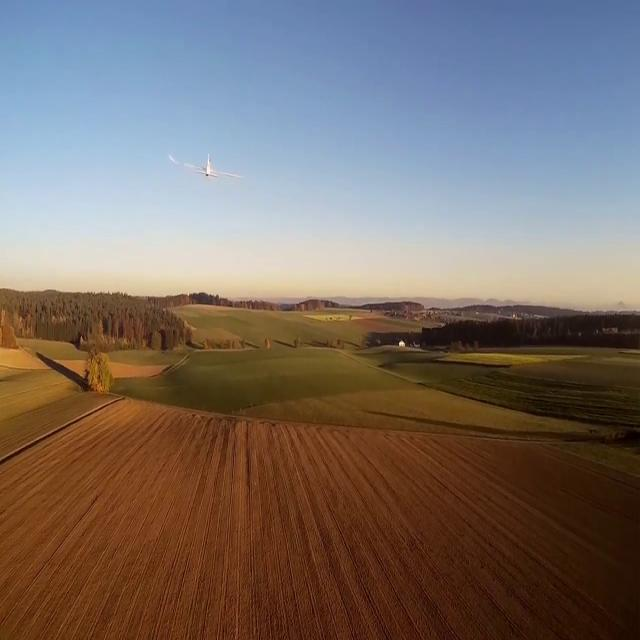iha: (200, 152, 213, 179)
